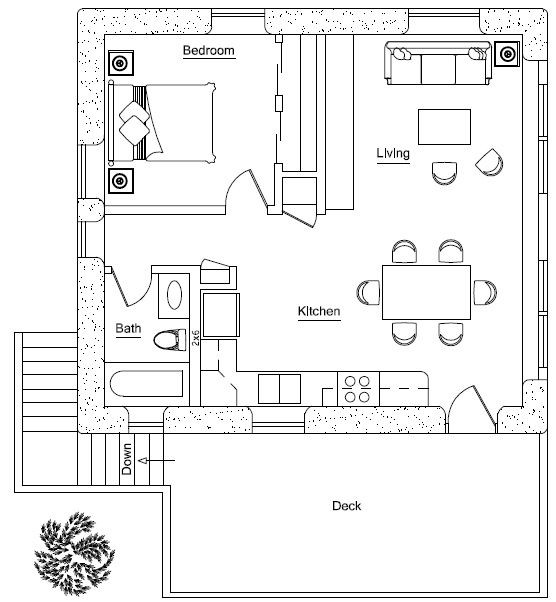door: (446, 366, 498, 441), (104, 261, 158, 313), (223, 166, 272, 212)
room: (82, 236, 548, 445), (67, 3, 359, 235), (315, 1, 551, 237)
wall: (74, 254, 109, 437), (70, 5, 113, 150), (302, 403, 446, 443), (161, 587, 556, 601), (66, 4, 214, 41), (259, 5, 407, 41), (309, 29, 330, 216), (532, 436, 555, 602), (11, 480, 176, 502), (158, 405, 254, 440), (184, 272, 205, 410), (106, 198, 225, 222), (10, 329, 27, 494), (478, 5, 551, 41), (158, 478, 179, 602), (75, 400, 132, 438), (516, 375, 549, 437), (496, 402, 549, 439), (519, 6, 551, 66), (533, 191, 549, 263), (147, 260, 201, 280), (75, 192, 106, 224), (278, 165, 324, 185), (272, 159, 284, 220), (201, 279, 239, 295), (226, 265, 238, 294)
window: (534, 86, 554, 194), (533, 263, 552, 365), (409, 1, 483, 25), (211, 3, 264, 23), (249, 415, 304, 434), (75, 144, 92, 193), (71, 220, 92, 255), (127, 413, 163, 431)
